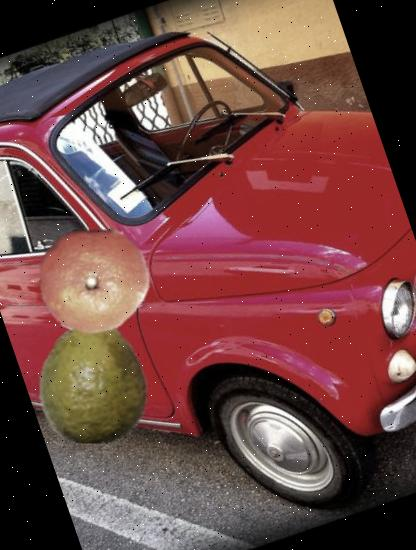Clementine: (21, 204, 167, 350)
Guava: (15, 302, 173, 460)
